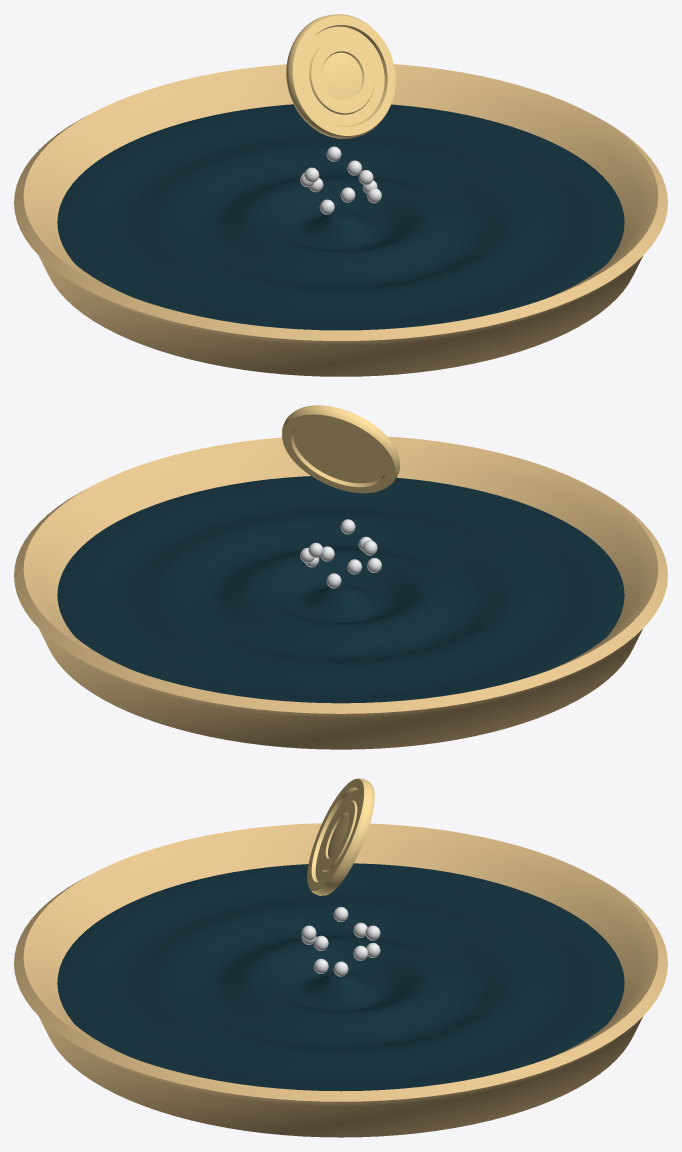
Rendered from ripple.glb.
3 views of the same model, one above another, from view 1: azimuth 30°, elevation 25°; view 2: azimuth 150°, elevation 25°; view 3: azimuth 270°, elevation 25° (orthographic).
Parts seen in each view (by area): view 1: water, bowl, coin; view 2: water, bowl, coin; view 3: water, bowl, coin.
Part boxes in pixels (x1,y1,x2,y2): water: (57, 104, 624, 330); bowl: (14, 64, 667, 376); coin: (286, 14, 395, 138); water: (57, 476, 624, 703); bowl: (14, 436, 667, 749); coin: (282, 405, 399, 493); water: (57, 863, 624, 1091); bowl: (14, 823, 667, 1137); coin: (307, 778, 374, 895).
Bounding box in the file's own units: 1.36 × 0.5578 × 1.36.
